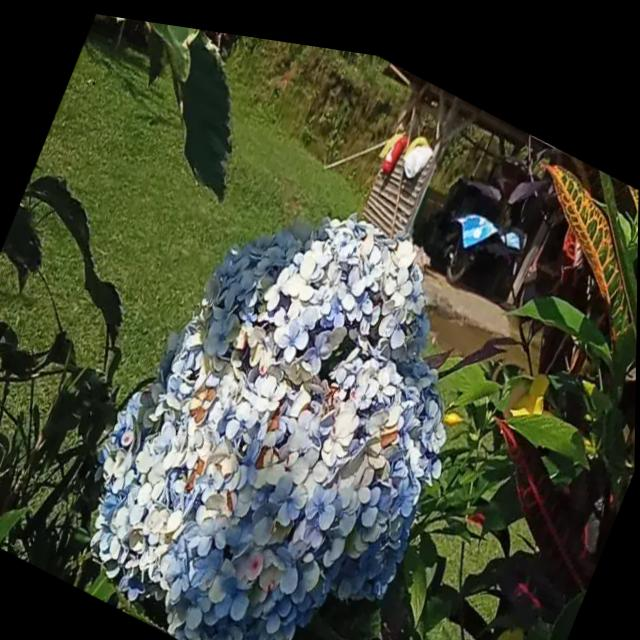Flower: (53, 112, 514, 640)
